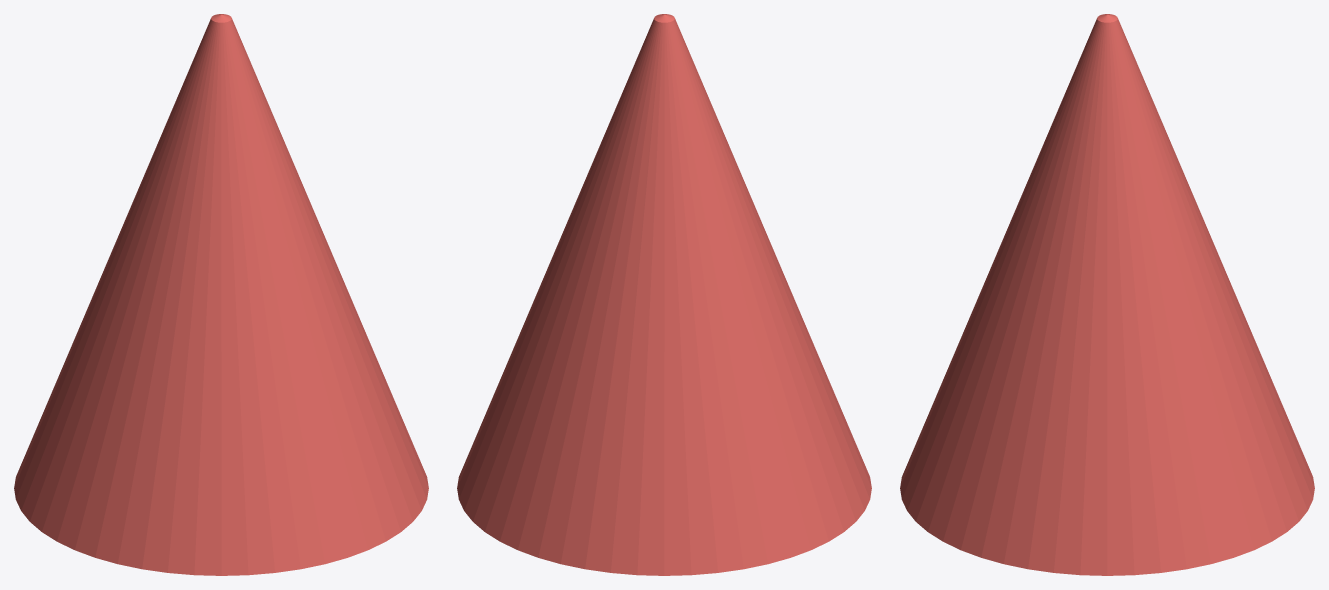
The model's file is nose_cone.glb.
3 views of the same model, side by side, from view 1: azimuth 30°, elevation 25°; view 2: azimuth 150°, elevation 25°; view 3: azimuth 270°, elevation 25° (orthographic).
Parts seen in each view (by area): view 1: nose_cone_0; view 2: nose_cone_0; view 3: nose_cone_0.
Boxes of the visible parts, box(x1,y1,x2,y2) form: nose_cone_0: box(14, 14, 428, 575); nose_cone_0: box(457, 14, 871, 575); nose_cone_0: box(900, 14, 1314, 575).
Size of the model in its own units: 2 by 2.52 by 2.
